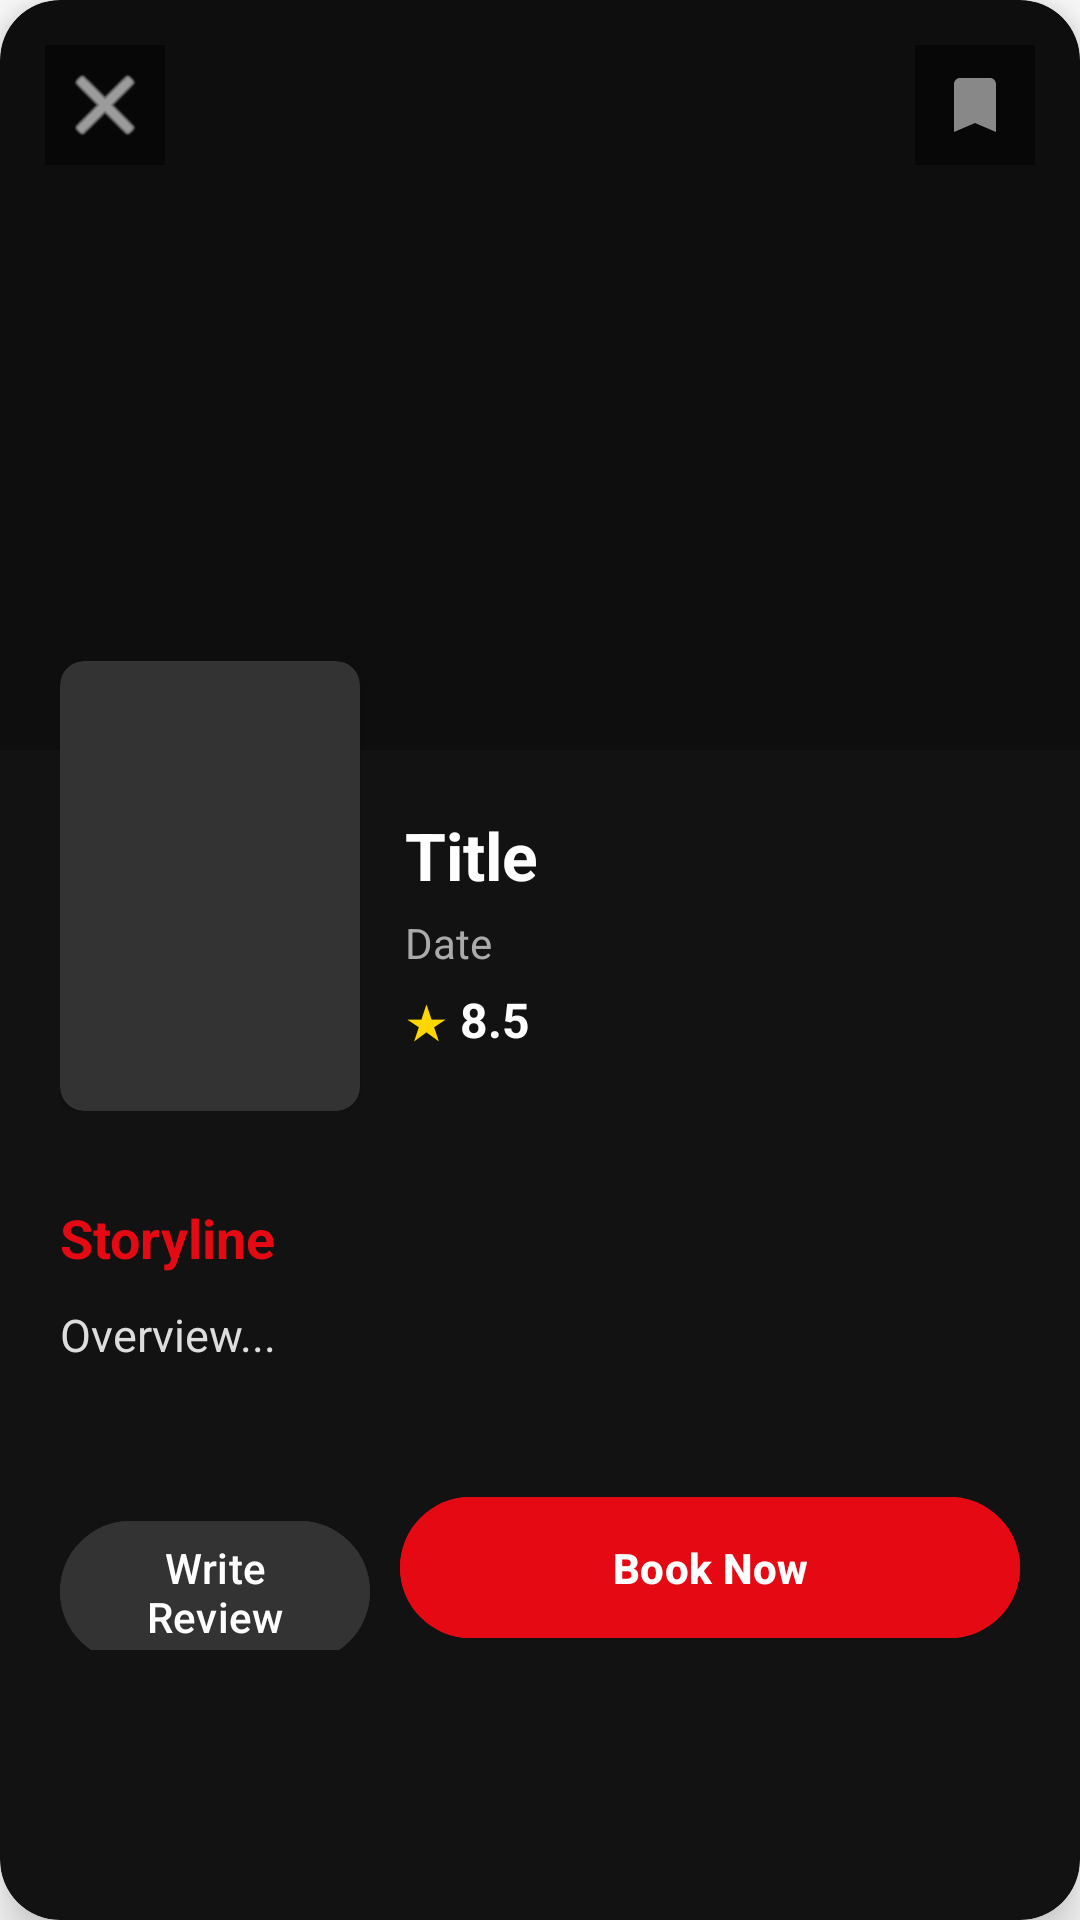

Named icons in this screenshot (1080w x 1920h) and their bounding boxes, (x1, y1, x2, y2):
bookmark: (954, 78, 996, 132)
close clear cancel: (75, 75, 135, 135)
